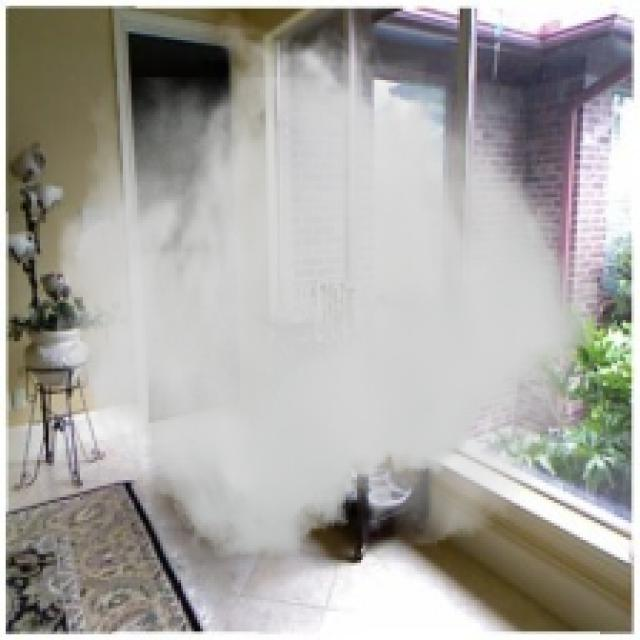smoke: (49, 9, 597, 557)
